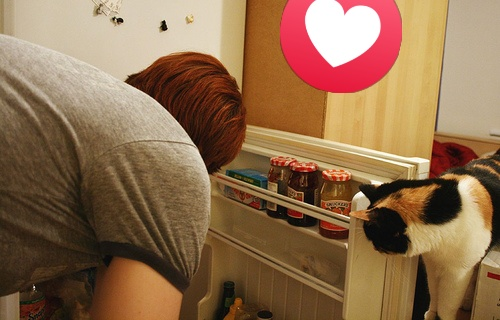love: (280, 0, 402, 93)
